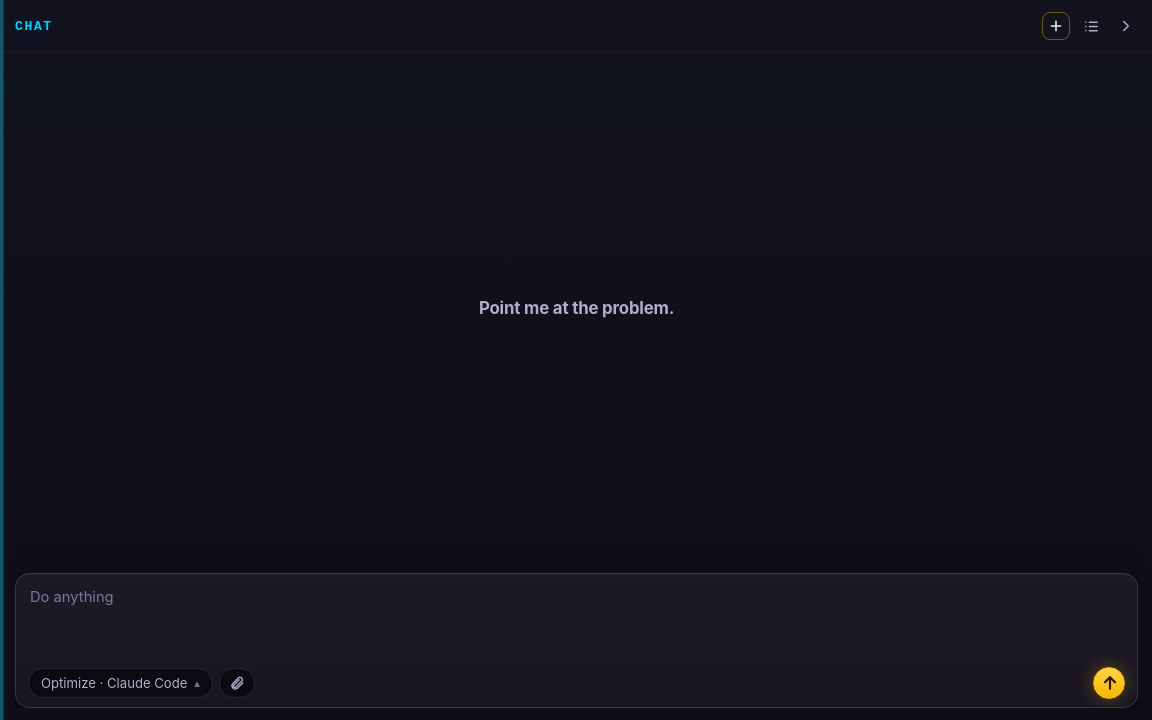
Scenario: ChatSidebar › toggles the session-history dropdown from the header sessions button
Expected: the dialog "Sessions" is not shown
Click the button named "Session history" at (1090, 26), box [1076,12,1104,40]
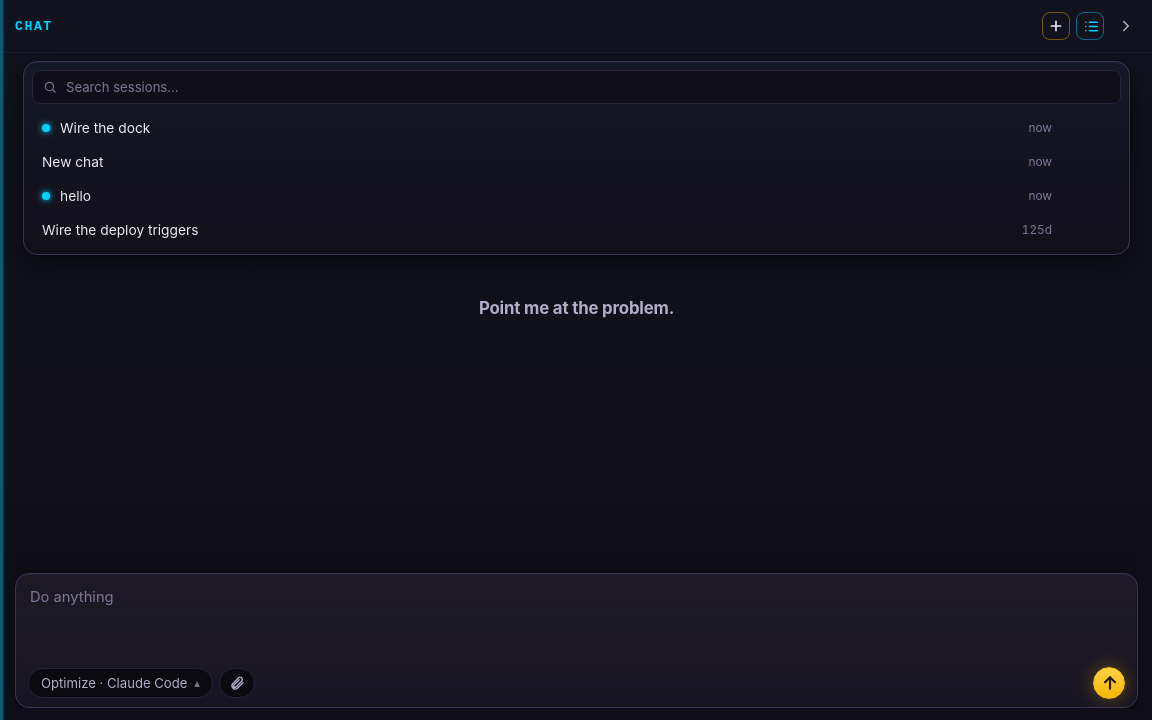
Expected: the dialog named "Sessions" is shown, [23,61,1130,255]
# Clicking the button again dismisses it.
Click the button named "Session history" at (1090, 26), box [1076,12,1104,40]
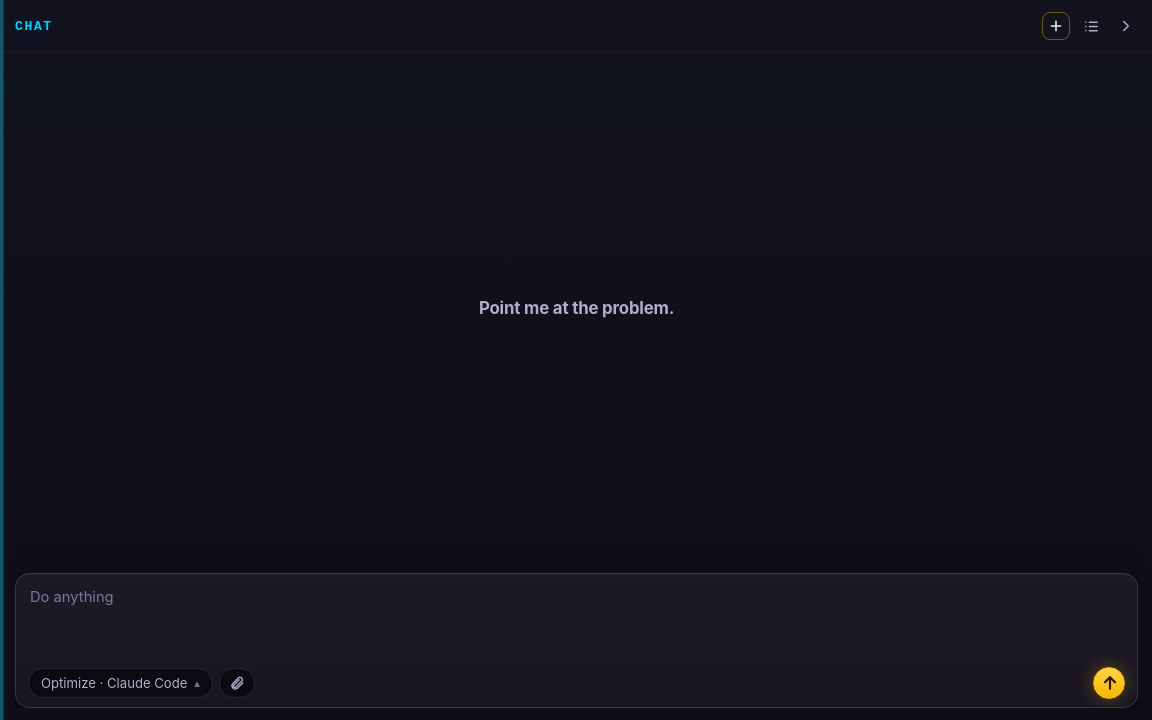
Expected: the button "Sessions" is gone
